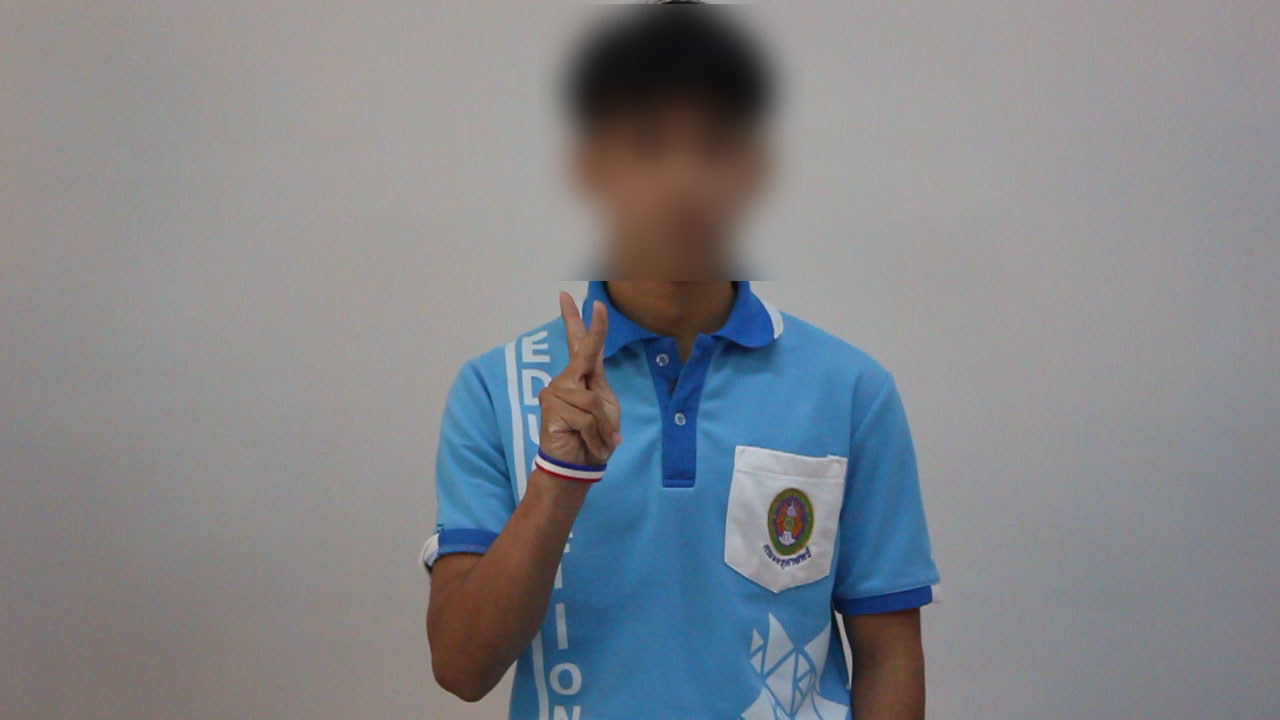ko: (513, 284, 643, 468)
